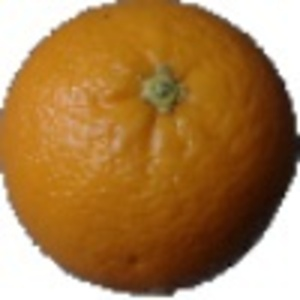laranja: (10, 4, 295, 298)
